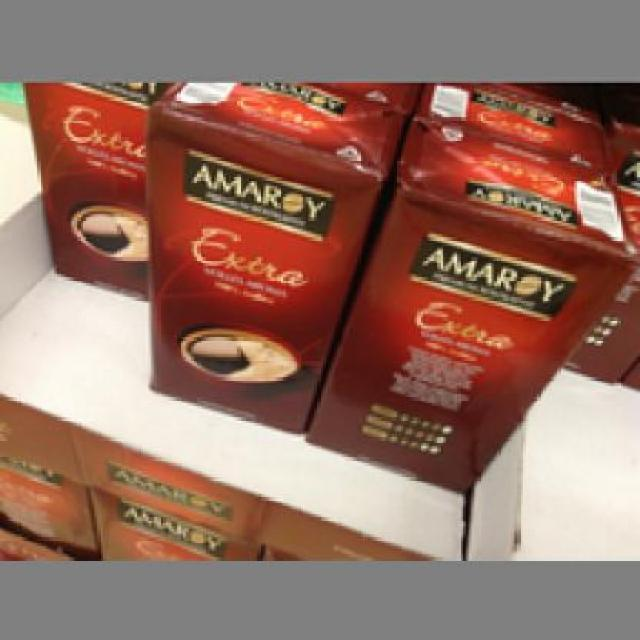Coffee: (297, 113, 632, 490), (143, 82, 406, 432)
